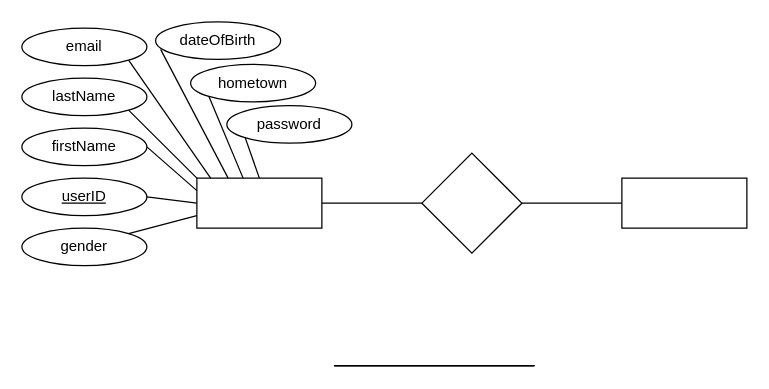
This 769x389 diagram has some shape labels left out. The centre of each missing label's shape, as x and y in pixels:
"albums" goes at point 684,202.
"users" goes at point 259,202.
